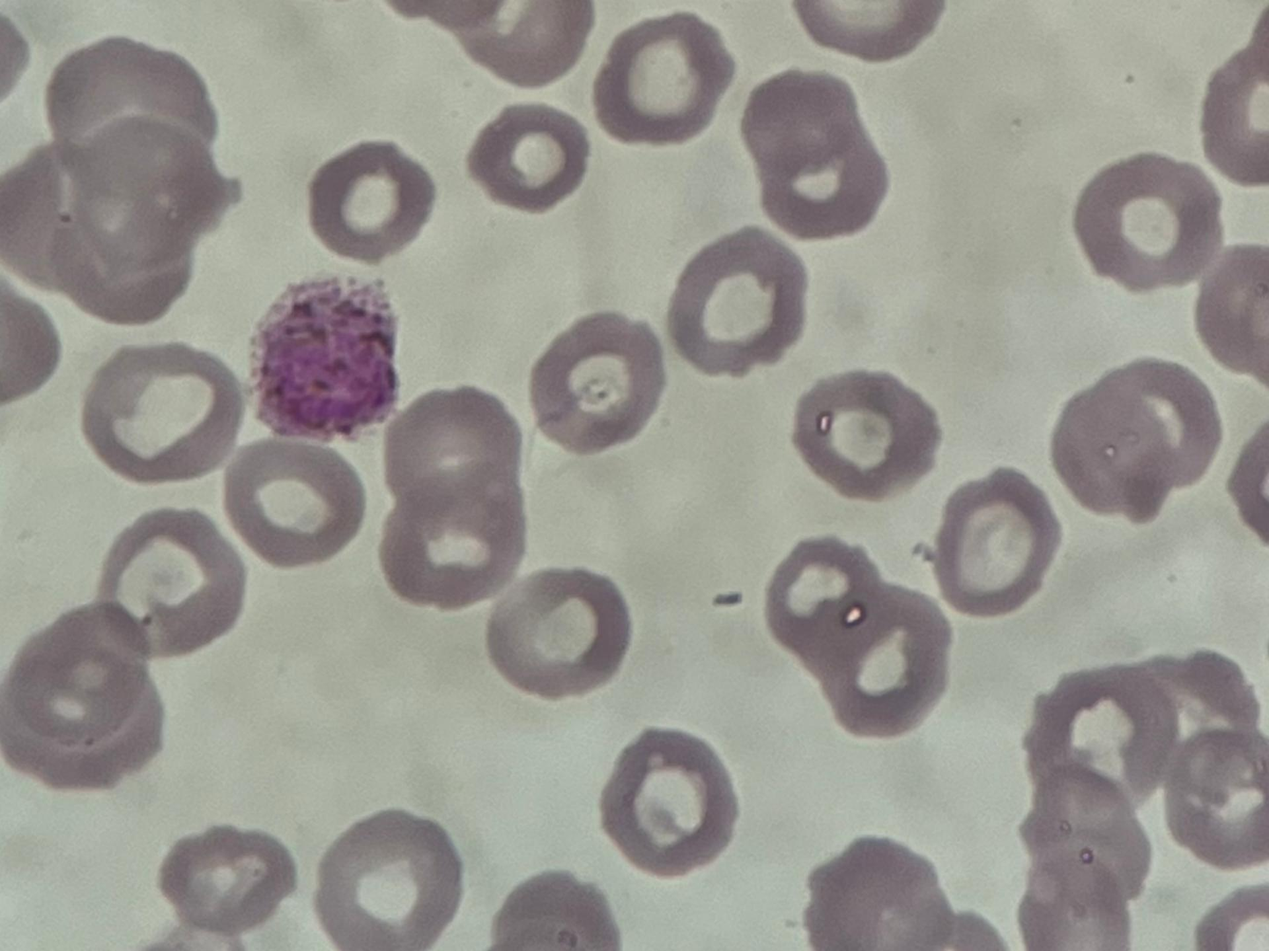Infected: (866, 509, 1015, 676)
Uninfected: (47, 428, 217, 592), (1028, 669, 1200, 829), (1117, 195, 1266, 354), (1021, 466, 1184, 607), (115, 25, 251, 193), (87, 147, 245, 291), (1020, 297, 1167, 443), (530, 73, 670, 224), (44, 658, 196, 797), (327, 448, 481, 584), (458, 576, 599, 723), (317, 209, 456, 356), (740, 339, 890, 475), (288, 1, 465, 116), (602, 497, 740, 638), (805, 4, 948, 139), (636, 250, 781, 383), (900, 383, 1045, 515), (1050, 799, 1217, 911), (208, 334, 338, 476), (533, 804, 674, 934), (747, 445, 891, 567), (832, 692, 962, 814), (972, 17, 1112, 125), (382, 711, 510, 824), (0, 81, 103, 221), (390, 288, 502, 411), (677, 738, 801, 847), (6, 203, 134, 305), (408, 780, 527, 886), (138, 1, 249, 89), (1210, 540, 1268, 683)
